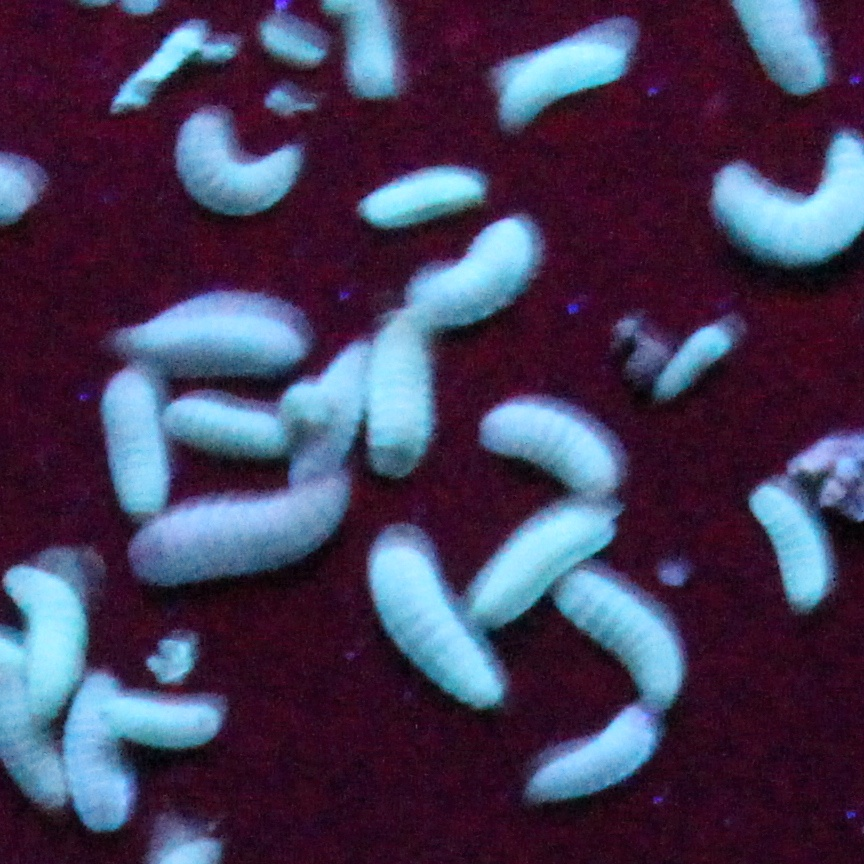larve: (134, 476, 346, 583), (369, 548, 502, 707), (557, 570, 681, 704), (471, 512, 613, 621), (407, 219, 532, 323), (175, 111, 297, 215), (3, 564, 86, 715), (122, 308, 303, 372), (482, 407, 613, 494), (289, 342, 368, 486), (532, 707, 655, 792), (500, 43, 624, 123), (65, 676, 129, 829), (368, 321, 431, 473), (750, 486, 827, 608), (103, 368, 168, 511), (161, 396, 283, 456), (361, 170, 484, 227), (102, 700, 218, 747), (658, 327, 731, 394)
